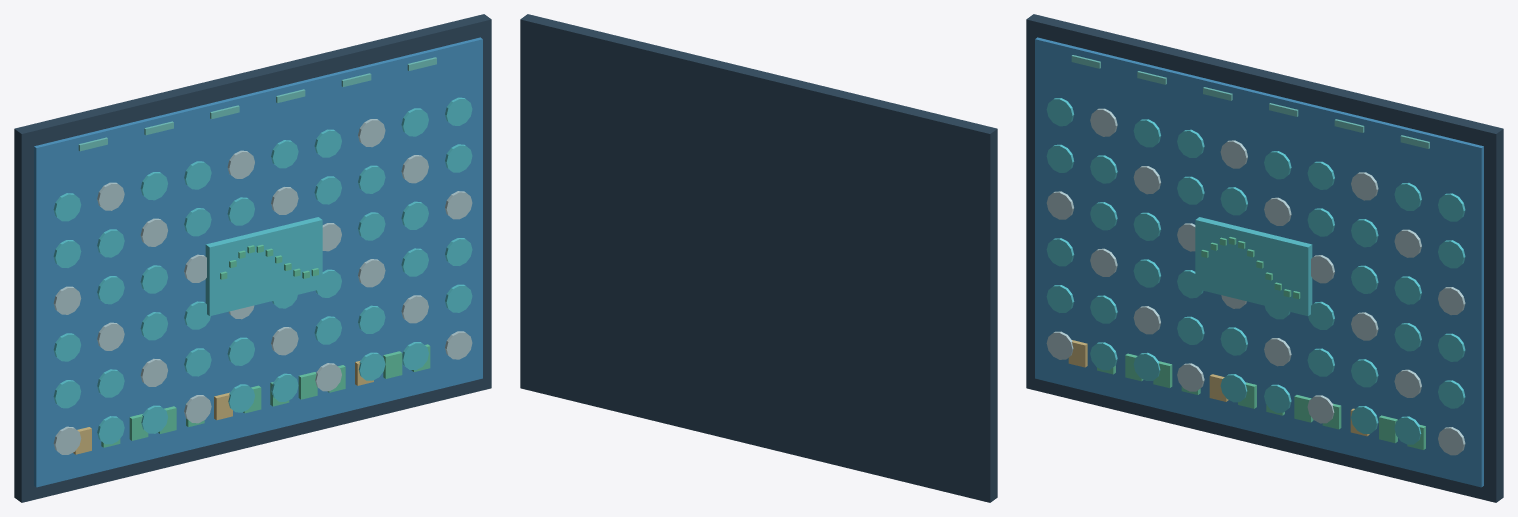
File: 27_L78_HolographicCopperDiffusionShield.glb
3 views of the same model, side by side, from view 1: azimuth 30°, elevation 25°; view 2: azimuth 150°, elevation 25°; view 3: azimuth 330°, elevation 25° (orthographic).
Visible parts, largest first — view 1: HolographicCopperDiffusionShield_Node_0001, HolographicCopperDiffusionShield_Node_0000, HolographicCopperDiffusionShield_Node_0081, HolographicCopperDiffusionShield_Node_0013, HolographicCopperDiffusionShield_Node_0033, HolographicCopperDiffusionShield_Node_0055, HolographicCopperDiffusionShield_Node_0005, HolographicCopperDiffusionShield_Node_0007, HolographicCopperDiffusionShield_Node_0009, HolographicCopperDiffusionShield_Node_0012, HolographicCopperDiffusionShield_Node_0018, HolographicCopperDiffusionShield_Node_0027 (+45 smaller); view 2: HolographicCopperDiffusionShield_Node_0000; view 3: HolographicCopperDiffusionShield_Node_0001, HolographicCopperDiffusionShield_Node_0000, HolographicCopperDiffusionShield_Node_0081, HolographicCopperDiffusionShield_Node_0004, HolographicCopperDiffusionShield_Node_0036, HolographicCopperDiffusionShield_Node_0039, HolographicCopperDiffusionShield_Node_0008, HolographicCopperDiffusionShield_Node_0012, HolographicCopperDiffusionShield_Node_0015, HolographicCopperDiffusionShield_Node_0019, HolographicCopperDiffusionShield_Node_0020, HolographicCopperDiffusionShield_Node_0032 (+45 smaller).
Boxes of the visible parts, bbox=[...] form: HolographicCopperDiffusionShield_Node_0001: bbox=[34, 37, 482, 487]; HolographicCopperDiffusionShield_Node_0000: bbox=[14, 14, 491, 502]; HolographicCopperDiffusionShield_Node_0081: bbox=[205, 217, 322, 315]; HolographicCopperDiffusionShield_Node_0013: bbox=[97, 182, 124, 210]; HolographicCopperDiffusionShield_Node_0033: bbox=[271, 327, 298, 355]; HolographicCopperDiffusionShield_Node_0055: bbox=[401, 108, 428, 136]; HolographicCopperDiffusionShield_Node_0005: bbox=[53, 286, 81, 314]; HolographicCopperDiffusionShield_Node_0007: bbox=[53, 193, 81, 221]; HolographicCopperDiffusionShield_Node_0009: bbox=[97, 369, 124, 397]; HolographicCopperDiffusionShield_Node_0012: bbox=[97, 229, 124, 257]; HolographicCopperDiffusionShield_Node_0018: bbox=[140, 218, 167, 246]; HolographicCopperDiffusionShield_Node_0027: bbox=[227, 337, 254, 365]; HolographicCopperDiffusionShield_Node_0000: bbox=[520, 14, 997, 502]; HolographicCopperDiffusionShield_Node_0001: bbox=[1035, 37, 1483, 487]; HolographicCopperDiffusionShield_Node_0000: bbox=[1026, 14, 1503, 502]; HolographicCopperDiffusionShield_Node_0081: bbox=[1195, 217, 1312, 315]; HolographicCopperDiffusionShield_Node_0004: bbox=[1046, 238, 1074, 266]; HolographicCopperDiffusionShield_Node_0036: bbox=[1264, 197, 1291, 225]; HolographicCopperDiffusionShield_Node_0039: bbox=[1307, 348, 1334, 376]; HolographicCopperDiffusionShield_Node_0008: bbox=[1090, 342, 1117, 370]; HolographicCopperDiffusionShield_Node_0012: bbox=[1090, 155, 1117, 183]; HolographicCopperDiffusionShield_Node_0015: bbox=[1133, 306, 1160, 334]; HolographicCopperDiffusionShield_Node_0019: bbox=[1133, 119, 1160, 147]; HolographicCopperDiffusionShield_Node_0020: bbox=[1177, 363, 1204, 391]; HolographicCopperDiffusionShield_Node_0032: bbox=[1264, 384, 1291, 412].
Size of the model in its own units: 2 by 1.5 by 0.146.
